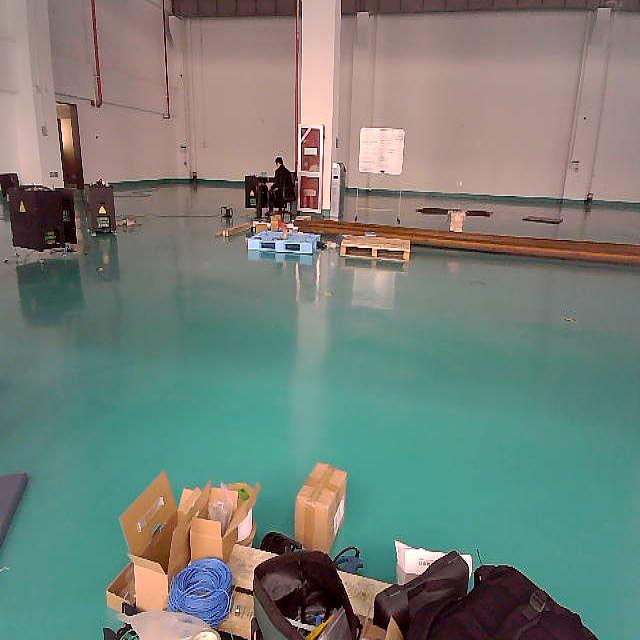euro: (339, 219, 419, 273)
